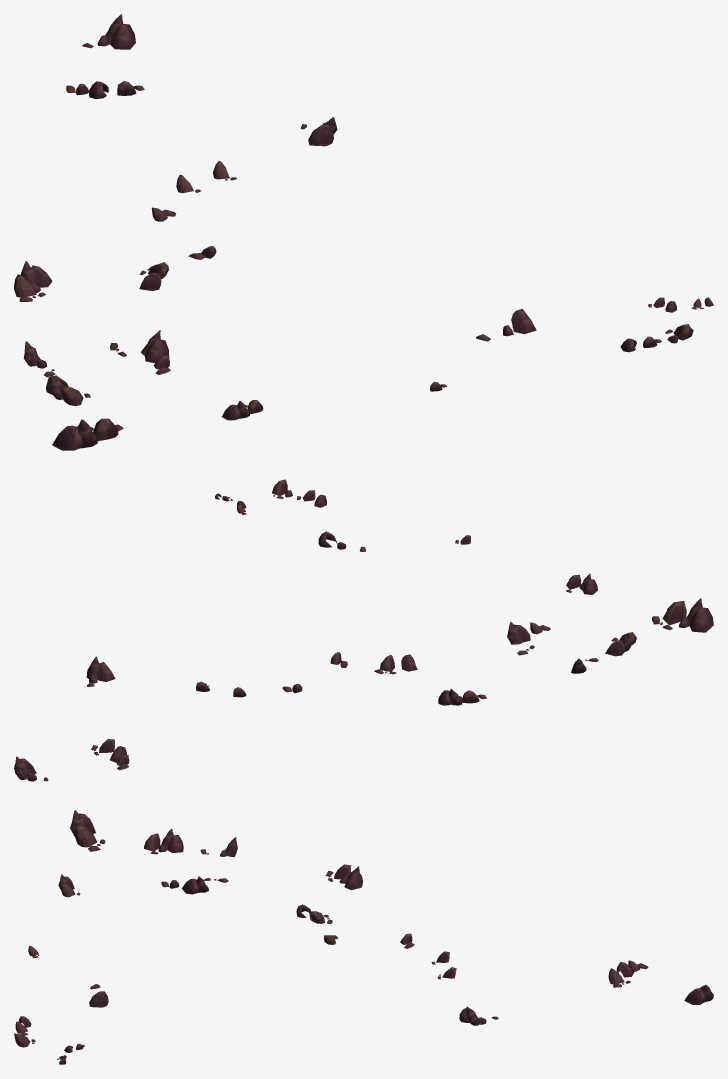
The model's file is area_16_shanshi01.FBX.
3 renders of one model, top to bottom at view 1: azimuth 30°, elevation 25°; view 2: azimuth 150°, elevation 25°; view 3: azimuth 270°, elevation 25°, orthographic. The views are drawn at different scales.
Parts seen in each view (by area): view 1: area_16_shanshi01; view 2: area_16_shanshi01; view 3: area_16_shanshi01.
Part boxes in pixels (<box>): area_16_shanshi01: <box>14,14,713,450</box>; area_16_shanshi01: <box>14,479,713,781</box>; area_16_shanshi01: <box>14,810,713,1064</box>.
Bounding box in the file's own units: 9575 × 484 × 11880.
